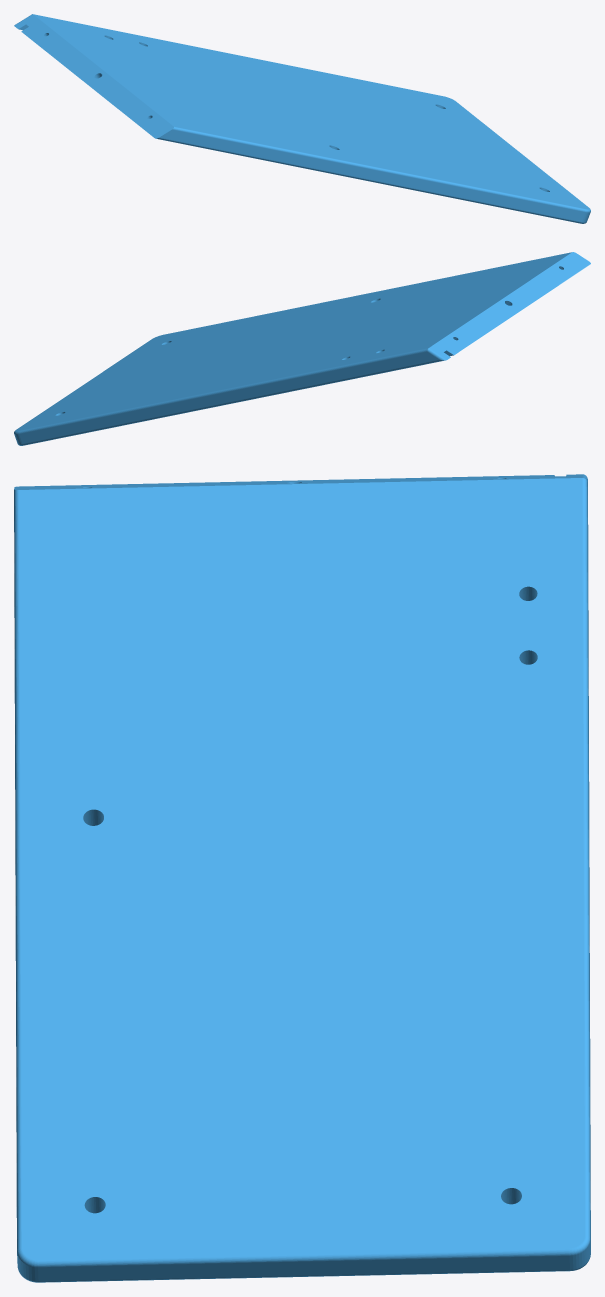
Rendered from step5.glb.
3 views of the same model, one above another, from view 1: azimuth 30°, elevation 25°; view 2: azimuth 150°, elevation 25°; view 3: azimuth 270°, elevation 25° (orthographic). The views are drawn at different scales.
Visible parts, largest first — view 1: 7; view 2: 7; view 3: 7.
Part boxes in pixels (x1,y1,x2,y2): 7: (14, 14, 590, 223); 7: (14, 252, 590, 445); 7: (14, 474, 590, 1282).
Size of what is drawn, in the model's own units: 2.3 by 1.03 by 1.32.
